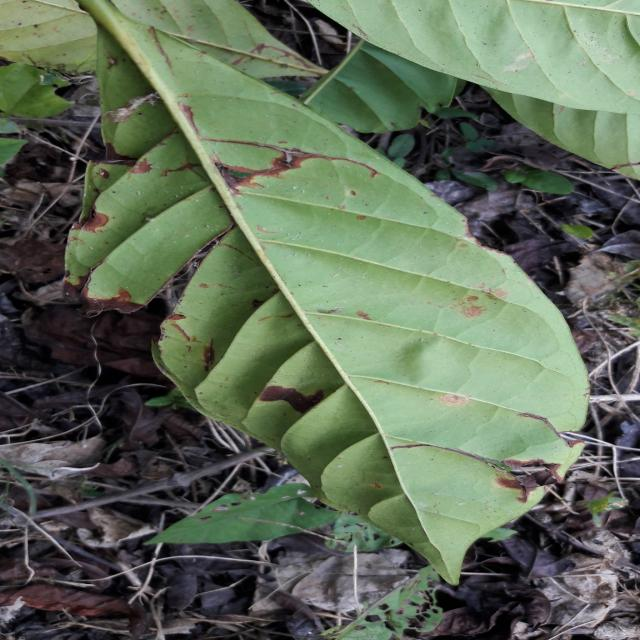Plaga-AranaRoja: (63, 0, 590, 588)
